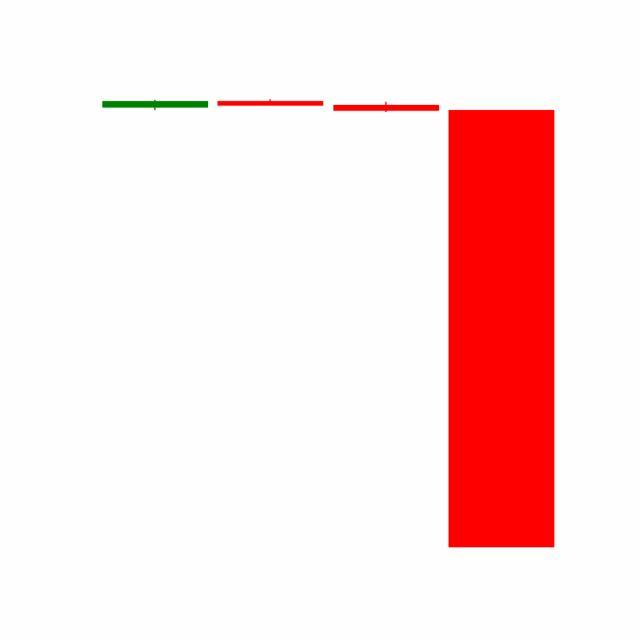Marubozu: (444, 107, 560, 553)
